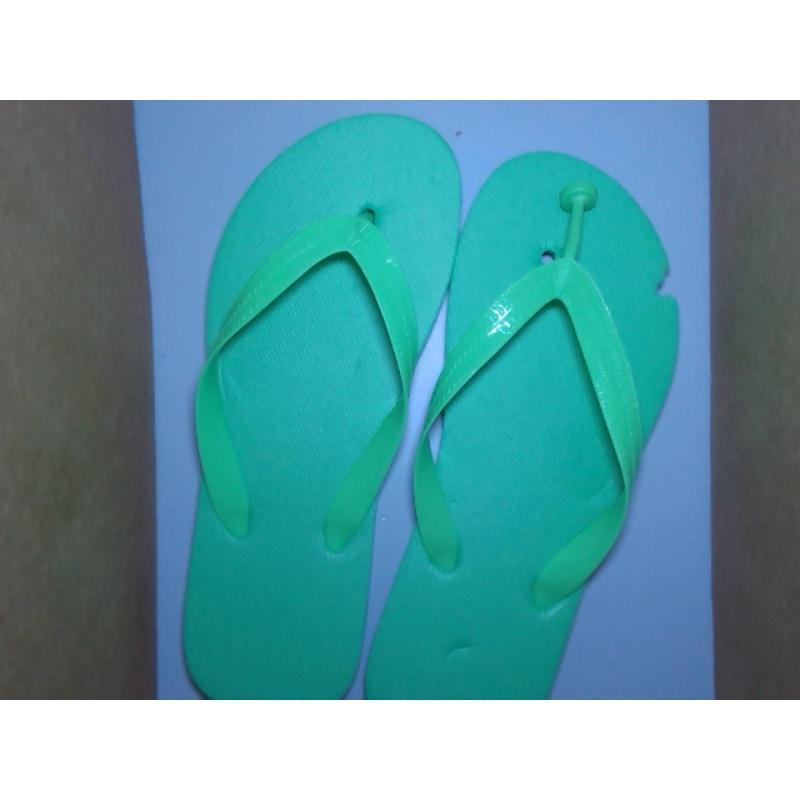chipped: (640, 250, 687, 321)
detached: (546, 170, 610, 229)
